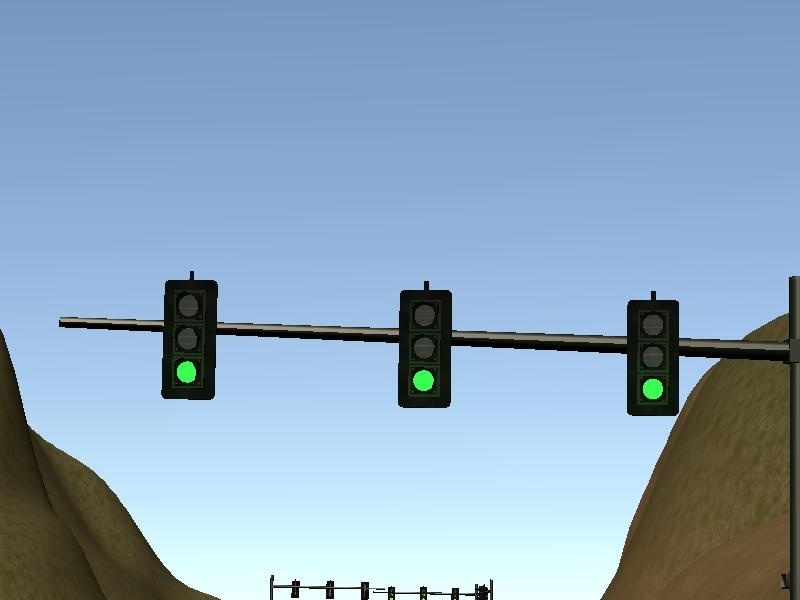GREEN: (159, 281, 215, 398), (398, 290, 454, 407), (625, 299, 681, 416)
